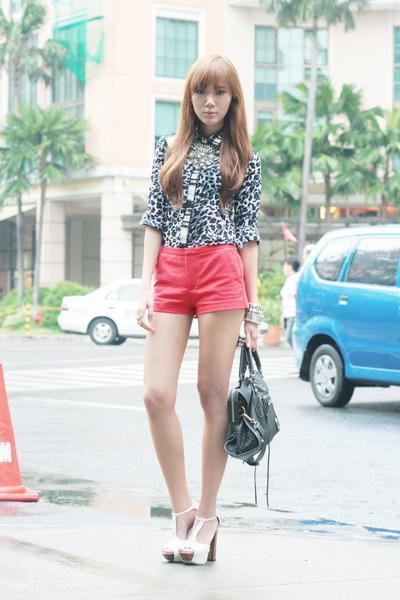bag: (223, 348, 279, 467)
shirt: (132, 143, 262, 251)
shoe: (161, 492, 216, 565)
shorts: (153, 244, 251, 320)
